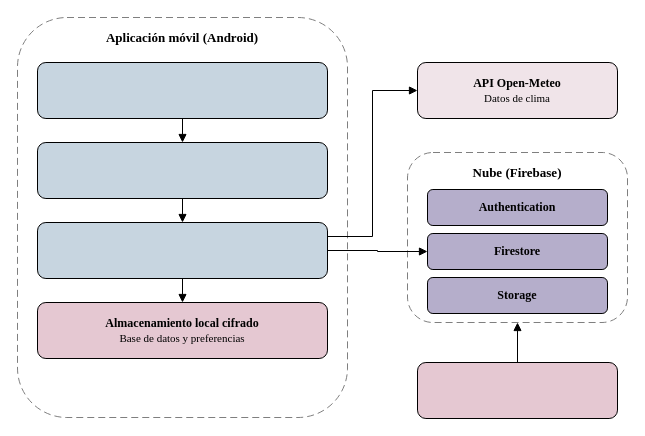
This 645x436 diagram has some shape labels left out. Each missing label, with the centre of its shape:
Datos Repositorios y fuentes: point (182, 250)
Dominio Casos de uso y reglas: point (182, 170)
Panel web Gestión de contenido: point (517, 390)
Presentación Fachada de clima y doble fondo: point (182, 90)
